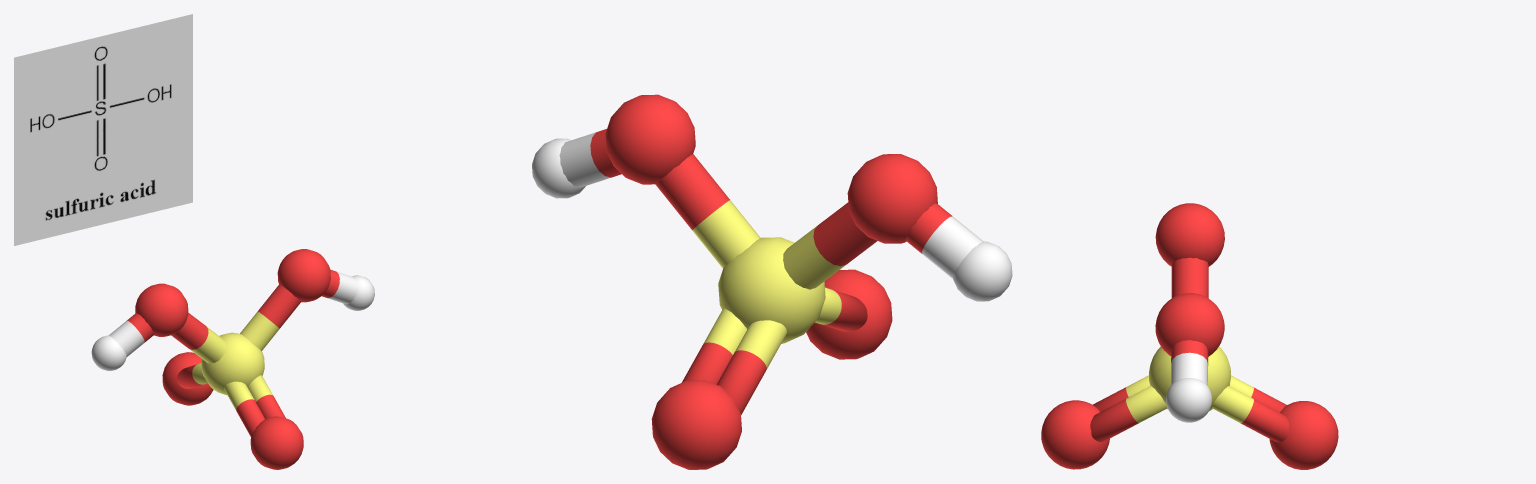
The model's file is acide sulfurique.glb.
3 renders of one model, left to right at view 1: azimuth 30°, elevation 25°; view 2: azimuth 150°, elevation 25°; view 3: azimuth 270°, elevation 25°, orthographic. The views are drawn at different scales.
Visible parts, largest first — view 1: h2so4_1, Shape_Sphere.004_0; view 2: Shape_Sphere.004_0; view 3: Shape_Sphere.004_0.
Boxes of the visible parts, x1,y1,x2,y2 form: h2so4_1: [14, 14, 192, 245]; Shape_Sphere.004_0: [91, 249, 374, 469]; Shape_Sphere.004_0: [532, 94, 1012, 469]; Shape_Sphere.004_0: [1041, 203, 1338, 469].
Bounding box in the file's own units: 4.49 × 4.72 × 5.2.
12 materials, 1 textured.
